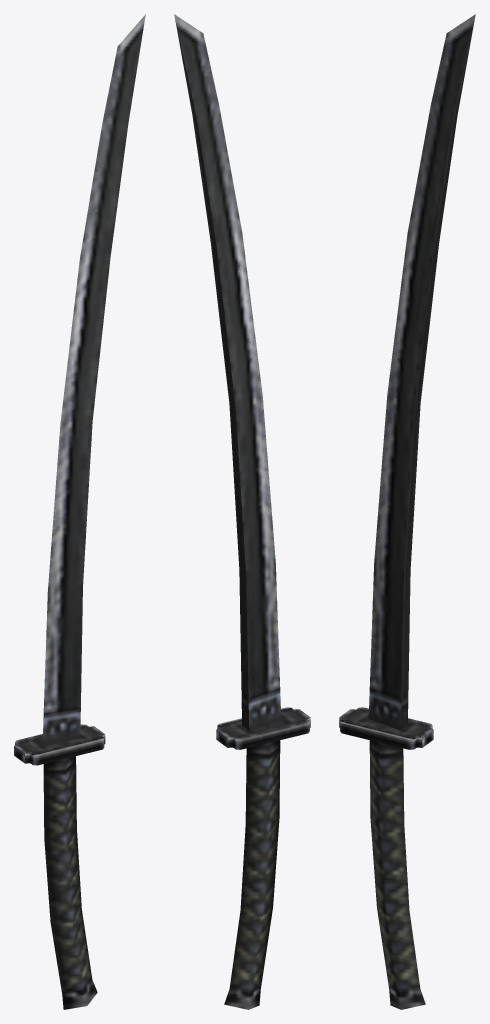
The model's file is Sword16_a.FBX.
3 views of the same model, side by side, from view 1: azimuth 30°, elevation 25°; view 2: azimuth 210°, elevation 25°; view 3: azimuth 330°, elevation 25° (orthographic). The views are drawn at different scales.
Visible parts, largest first — view 1: Sword16_a; view 2: Sword16_a; view 3: Sword16_a.
Boxes of the visible parts, box(x1,y1,x2,y2) form: Sword16_a: box(14, 14, 145, 1009); Sword16_a: box(174, 14, 310, 1009); Sword16_a: box(339, 14, 475, 1009).
Bounding box in the file's own units: 14.61 × 108 × 4.21.
